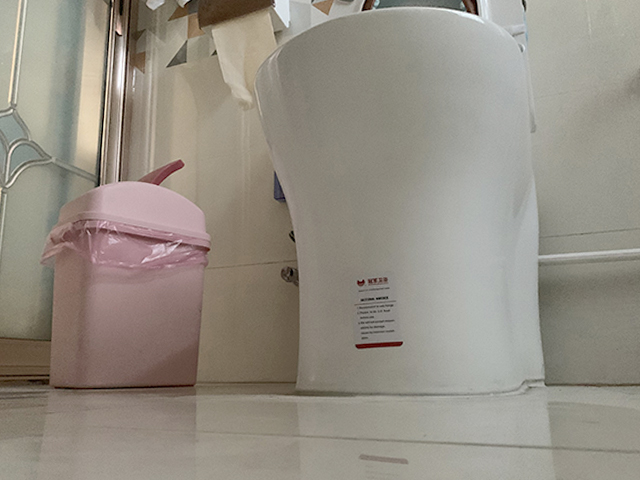closestool: (252, 1, 545, 395)
trashcan: (45, 157, 212, 391)
